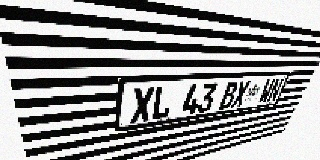3: (196, 83, 218, 113)
4: (181, 84, 203, 116)
B: (219, 82, 239, 110)
L: (150, 86, 174, 120)
N: (266, 79, 284, 102)
W: (257, 79, 276, 104)
X: (130, 87, 155, 124), (231, 81, 251, 108)
